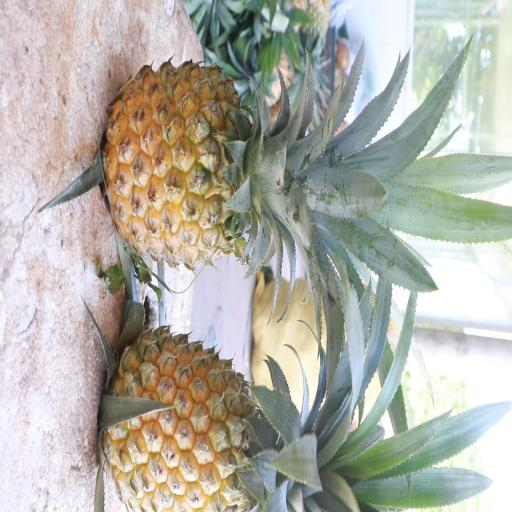Pineapple - v8 v1: (100, 54, 332, 276), (98, 320, 341, 512)
